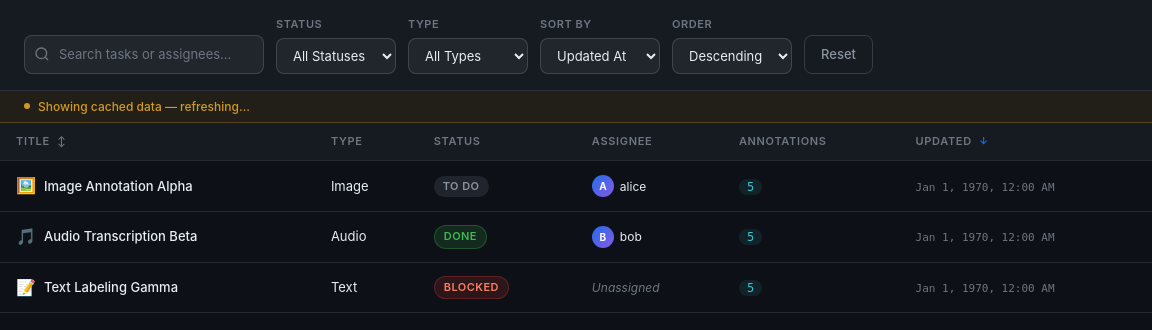
Test case: TaskTable filtering interactions › resets filters on reset button click
This screenshot has width=1152, height=330.
Apply a filter
Type "Alpha" into the field labelled "Search tasks or assignees…" at (144, 54), box x1=24 y1=35 x2=264 y2=74
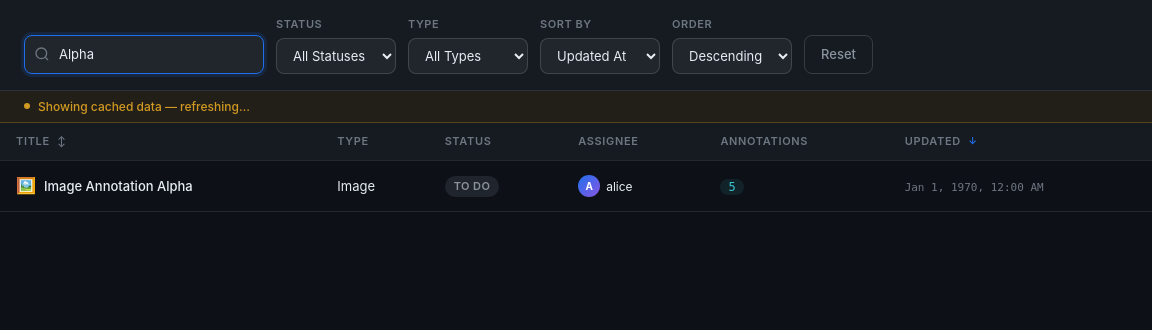
Expected: the button "Audio Transcription Beta" is gone
Click the button "Reset" at (838, 54), box x1=804 y1=35 x2=873 y2=74
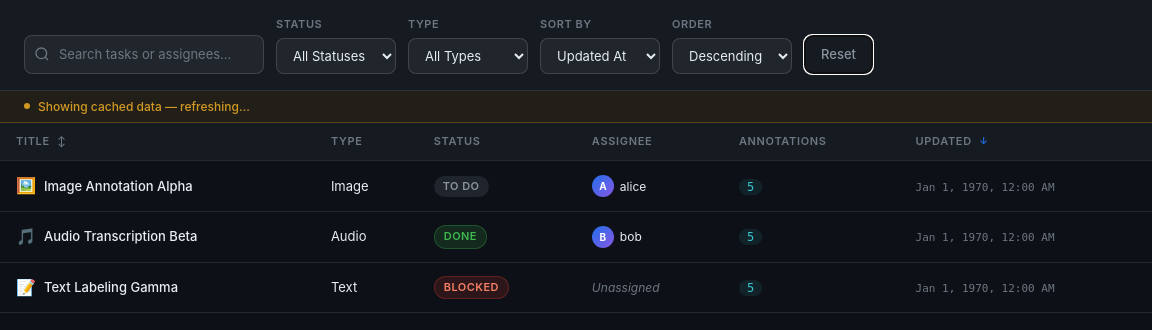
Expected: the text "Image Annotation Alpha" is shown, x1=44 y1=176 x2=193 y2=197
Expected: the text "Audio Transcription Beta" is shown, x1=44 y1=226 x2=197 y2=247
